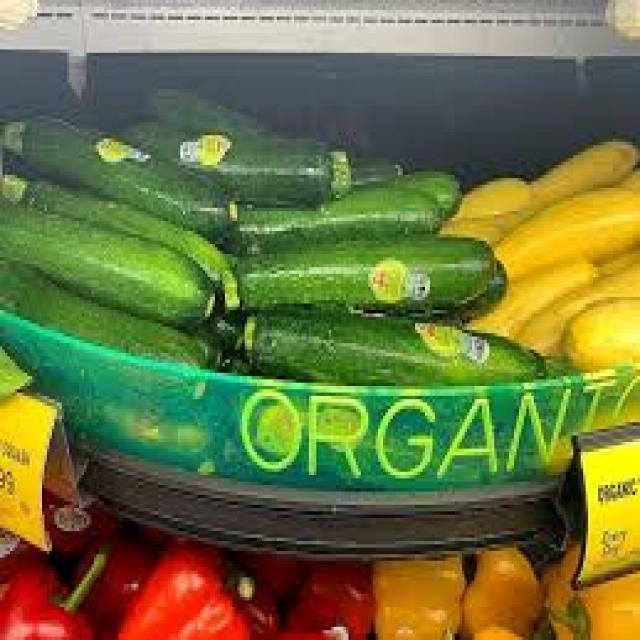Zucchini: (218, 245, 506, 318)
